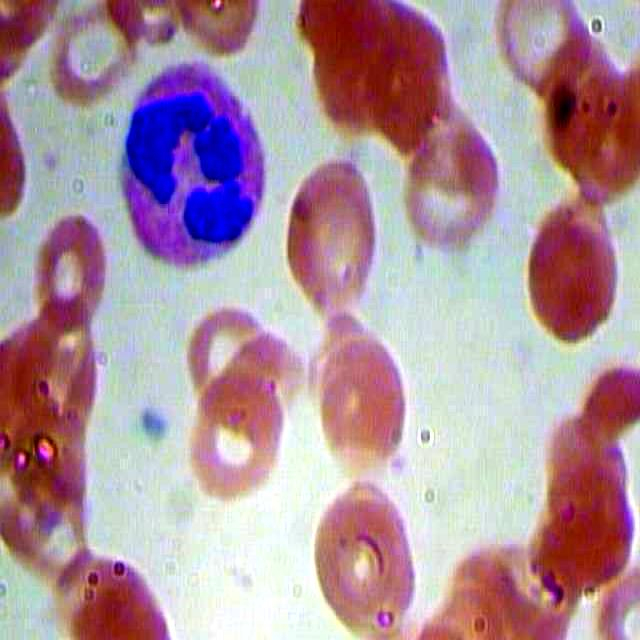Platelets: (132, 389, 171, 454)
RBC: (296, 485, 423, 640), (511, 196, 638, 351), (343, 1, 468, 147), (277, 150, 387, 310), (388, 110, 498, 270), (306, 324, 416, 484), (186, 357, 291, 508), (524, 472, 640, 604), (15, 294, 109, 446), (29, 203, 117, 329), (209, 327, 305, 436), (177, 292, 273, 401), (37, 2, 141, 102), (62, 552, 174, 640), (494, 1, 594, 99), (572, 352, 640, 460)
WBC: (98, 45, 281, 275)
